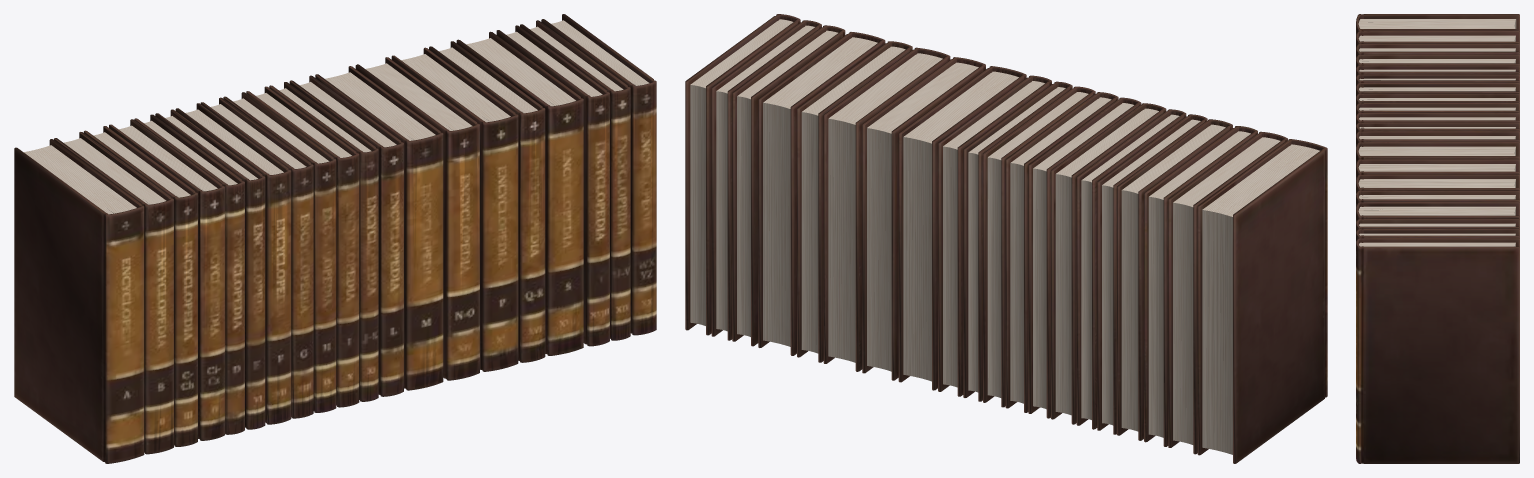
The model's file is premium-ph-victorian-books.glb.
3 renders of one model, left to right at view 1: azimuth 30°, elevation 25°; view 2: azimuth 150°, elevation 25°; view 3: azimuth 270°, elevation 25°, orthographic. The views are drawn at different scales.
Parts seen in each view (by area): view 1: book_encyclopedia_set_01_book01, book_encyclopedia_set_01_book13, book_encyclopedia_set_01_book15, book_encyclopedia_set_01_book17, book_encyclopedia_set_01_book14, book_encyclopedia_set_01_book02, book_encyclopedia_set_01_book16, book_encyclopedia_set_01_book04, book_encyclopedia_set_01_book18, book_encyclopedia_set_01_book20, book_encyclopedia_set_01_book07, book_encyclopedia_set_01_book12 (+8 smaller); view 2: book_encyclopedia_set_01_book01, book_encyclopedia_set_01_book13, book_encyclopedia_set_01_book15, book_encyclopedia_set_01_book17, book_encyclopedia_set_01_book14, book_encyclopedia_set_01_book02, book_encyclopedia_set_01_book04, book_encyclopedia_set_01_book16, book_encyclopedia_set_01_book20, book_encyclopedia_set_01_book18, book_encyclopedia_set_01_book07, book_encyclopedia_set_01_book12 (+8 smaller); view 3: book_encyclopedia_set_01_book20, book_encyclopedia_set_01_book13, book_encyclopedia_set_01_book01, book_encyclopedia_set_01_book17, book_encyclopedia_set_01_book15, book_encyclopedia_set_01_book14, book_encyclopedia_set_01_book02, book_encyclopedia_set_01_book16, book_encyclopedia_set_01_book03, book_encyclopedia_set_01_book12, book_encyclopedia_set_01_book07, book_encyclopedia_set_01_book04 (+8 smaller).
Part boxes in pixels (left/top/right/bottom): book_encyclopedia_set_01_book01: left=14, top=139, right=144, bottom=463; book_encyclopedia_set_01_book13: left=315, top=66, right=443, bottom=390; book_encyclopedia_set_01_book15: left=391, top=47, right=518, bottom=371; book_encyclopedia_set_01_book17: left=456, top=31, right=583, bottom=355; book_encyclopedia_set_01_book14: left=355, top=57, right=479, bottom=380; book_encyclopedia_set_01_book02: left=54, top=132, right=173, bottom=454; book_encyclopedia_set_01_book16: left=429, top=41, right=545, bottom=362; book_encyclopedia_set_01_book04: left=109, top=119, right=224, bottom=440; book_encyclopedia_set_01_book18: left=496, top=25, right=609, bottom=346; book_encyclopedia_set_01_book20: left=541, top=14, right=656, bottom=335; book_encyclopedia_set_01_book07: left=175, top=103, right=291, bottom=424; book_encyclopedia_set_01_book12: left=289, top=75, right=403, bottom=396; book_encyclopedia_set_01_book01: left=1197, top=139, right=1327, bottom=463; book_encyclopedia_set_01_book13: left=898, top=66, right=1026, bottom=390; book_encyclopedia_set_01_book15: left=823, top=47, right=950, bottom=371; book_encyclopedia_set_01_book17: left=758, top=32, right=885, bottom=355; book_encyclopedia_set_01_book14: left=862, top=57, right=985, bottom=380; book_encyclopedia_set_01_book02: left=1168, top=131, right=1287, bottom=454; book_encyclopedia_set_01_book04: left=1117, top=119, right=1232, bottom=440; book_encyclopedia_set_01_book16: left=797, top=41, right=912, bottom=362; book_encyclopedia_set_01_book20: left=685, top=14, right=800, bottom=335; book_encyclopedia_set_01_book18: left=732, top=25, right=845, bottom=346; book_encyclopedia_set_01_book07: left=1051, top=103, right=1166, bottom=424; book_encyclopedia_set_01_book12: left=938, top=75, right=1051, bottom=396; book_encyclopedia_set_01_book20: left=1356, top=238, right=1519, bottom=463; book_encyclopedia_set_01_book13: left=1356, top=142, right=1519, bottom=165; book_encyclopedia_set_01_book01: left=1356, top=14, right=1519, bottom=35; book_encyclopedia_set_01_book17: left=1356, top=202, right=1519, bottom=221; book_encyclopedia_set_01_book15: left=1356, top=174, right=1519, bottom=194; book_encyclopedia_set_01_book14: left=1356, top=159, right=1519, bottom=180; book_encyclopedia_set_01_book02: left=1356, top=30, right=1519, bottom=47; book_encyclopedia_set_01_book16: left=1356, top=190, right=1519, bottom=222; book_encyclopedia_set_01_book03: left=1356, top=43, right=1519, bottom=58; book_encyclopedia_set_01_book12: left=1356, top=131, right=1519, bottom=149; book_encyclopedia_set_01_book07: left=1356, top=82, right=1519, bottom=96; book_encyclopedia_set_01_book04: left=1356, top=54, right=1519, bottom=68.
Size of the model in its own units: 0.5513 by 0.2374 by 0.1631.
Materials: 2 (2 with a texture image).
